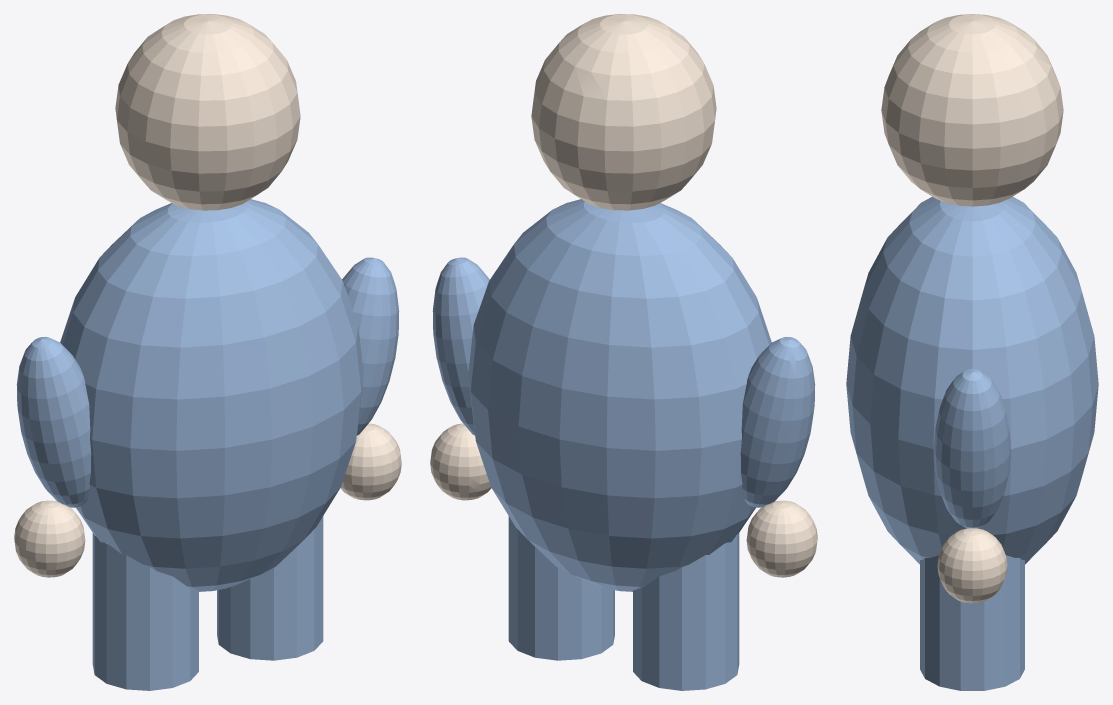
The model's file is preset-04.glb.
3 views of the same model, side by side, from view 1: azimuth 30°, elevation 25°; view 2: azimuth 150°, elevation 25°; view 3: azimuth 270°, elevation 25° (orthographic). The views are drawn at different scales.
Visible parts, largest first — view 1: preset-04; view 2: preset-04; view 3: preset-04.
Part boxes in pixels (x1,y1,x2,y2): preset-04: (14,14,401,690); preset-04: (430,14,817,690); preset-04: (846,14,1098,690).
Size of the model in its own units: 0.2194 by 0.35 by 0.1295.
